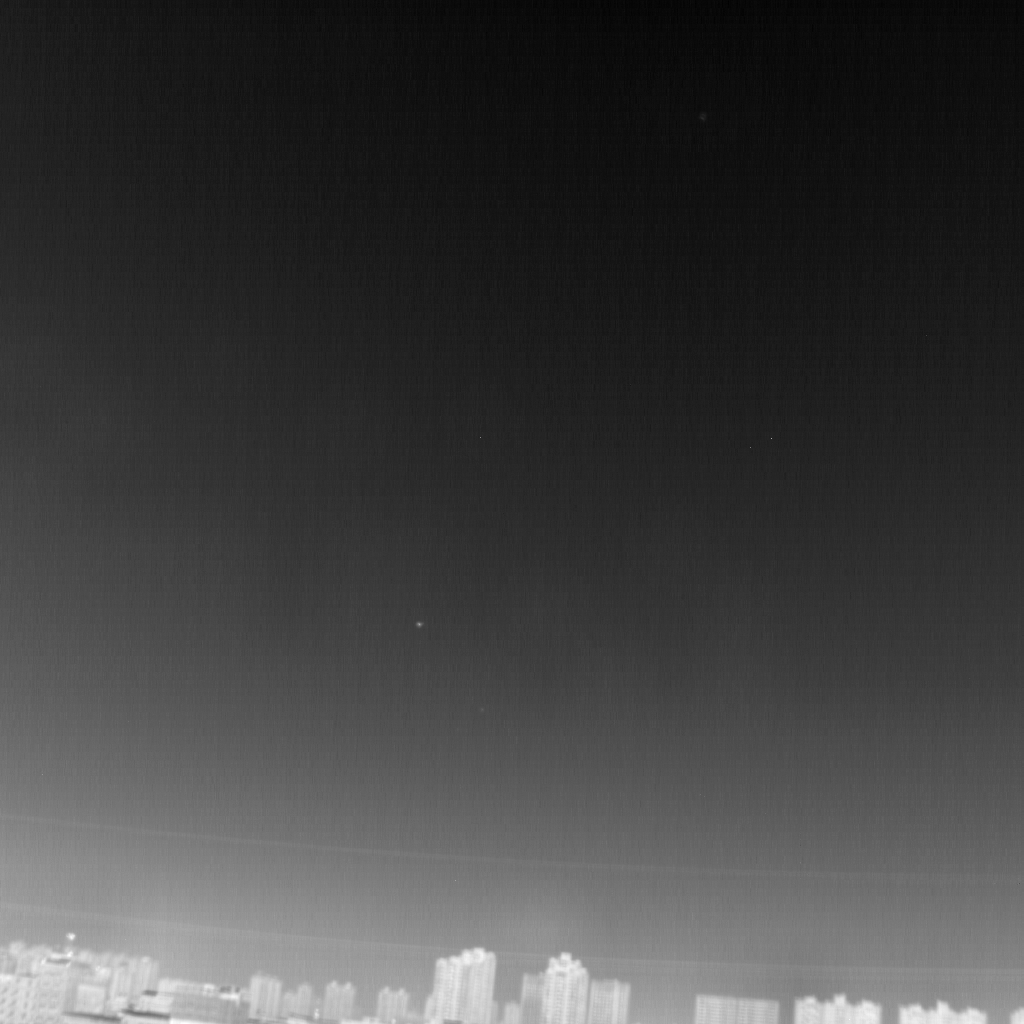Target: (416, 622, 425, 630)
